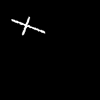single_crochet: (12, 17, 44, 34)
